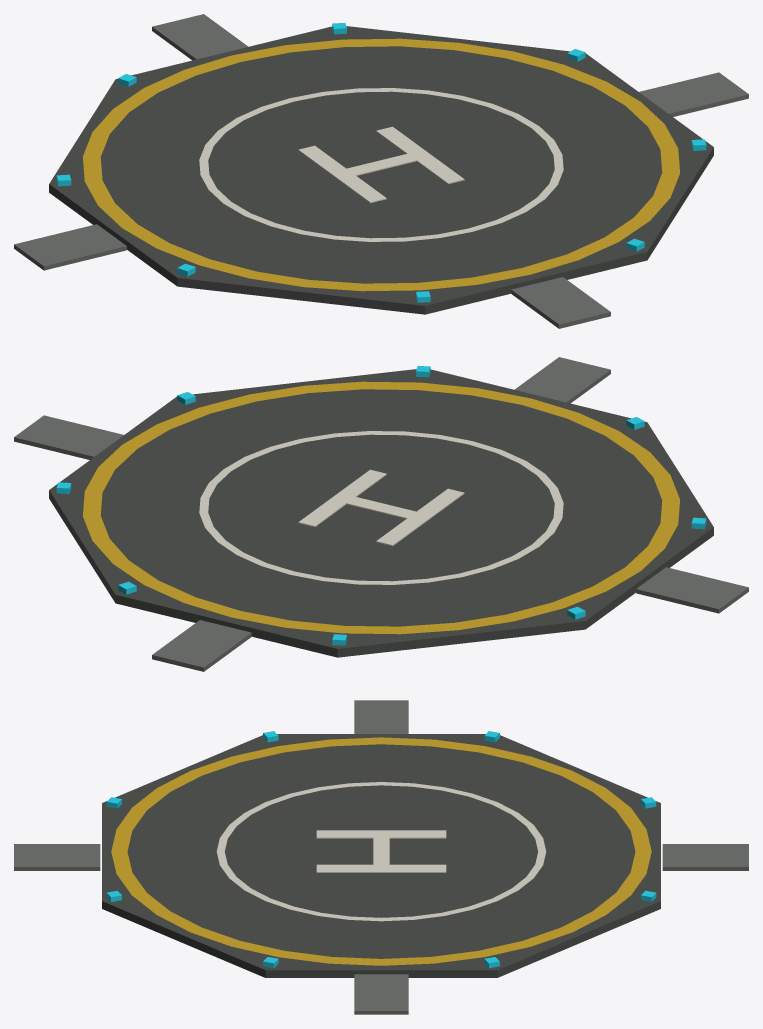
File: Helipad.fbx
3 views of the same model, one above another, from view 1: azimuth 30°, elevation 25°; view 2: azimuth 150°, elevation 25°; view 3: azimuth 270°, elevation 25° (orthographic). The views are drawn at different scales.
Parts seen in each view (by area): view 1: Helipad; view 2: Helipad; view 3: Helipad.
Part boxes in pixels (x1,y1,x2,y2): Helipad: [14, 14, 748, 328]; Helipad: [14, 357, 748, 671]; Helipad: [14, 700, 748, 1014].
Size of the model in its own units: 13.6 by 0.26 by 13.6.
